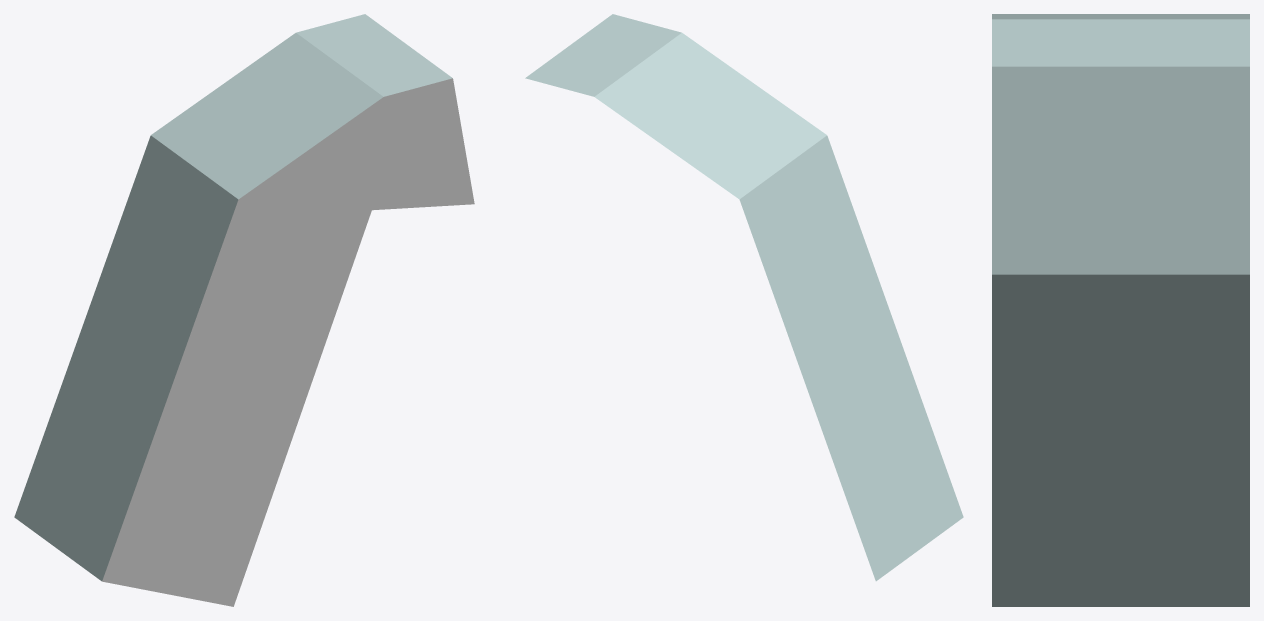
3 views of the same model, side by side, from view 1: azimuth 30°, elevation 25°; view 2: azimuth 150°, elevation 25°; view 3: azimuth 270°, elevation 25° (orthographic). The views are drawn at different scales.
Visible parts, largest first — view 1: 0_3_2_2_1_2_2_0_1; view 2: 0_3_2_2_1_2_2_0_1; view 3: 0_3_2_2_1_2_2_0_1.
Part boxes in pixels (<box>): 0_3_2_2_1_2_2_0_1: <box>14,14,474,606</box>; 0_3_2_2_1_2_2_0_1: <box>525,14,963,581</box>; 0_3_2_2_1_2_2_0_1: <box>992,14,1249,606</box>.
Size of the model in its own units: 7.35 by 8.96 by 3.
